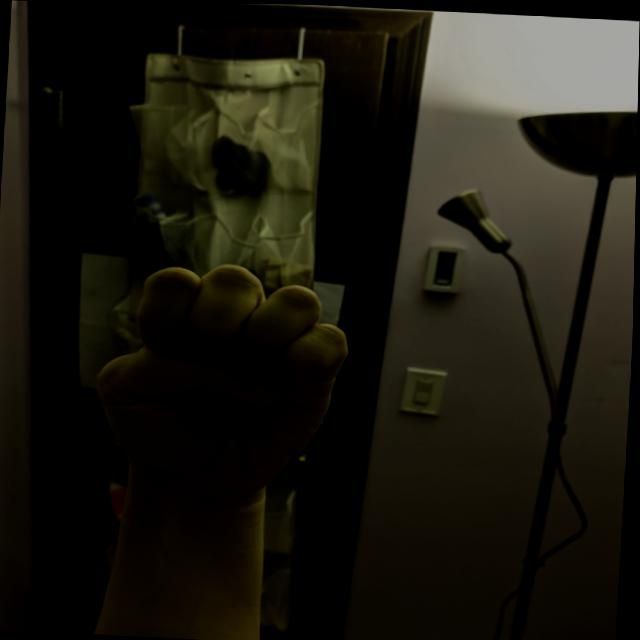E: (86, 254, 359, 502)
